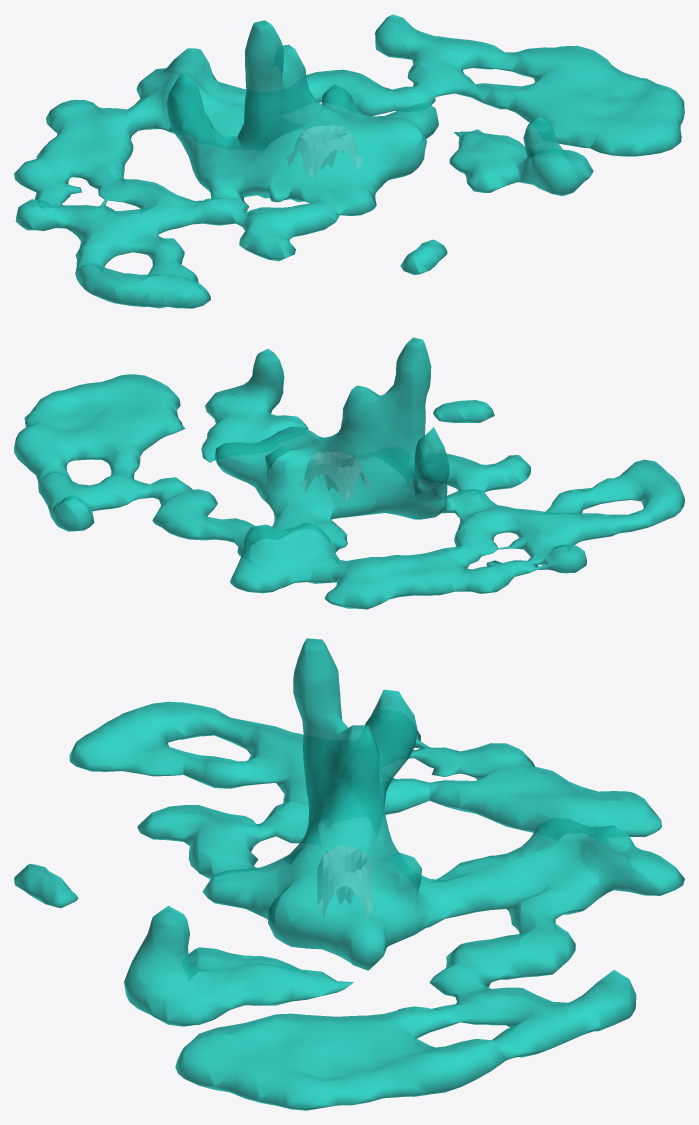
3 renders of one model, top to bottom at view 1: azimuth 30°, elevation 25°; view 2: azimuth 150°, elevation 25°; view 3: azimuth 270°, elevation 25°, orthographic. The views are drawn at different scales.
Visible parts, largest first — view 1: Liquid_Domain, グリッド; view 2: Liquid_Domain, グリッド; view 3: Liquid_Domain, グリッド.
Boxes of the visible parts, <box> form: Liquid_Domain: <box>14,14,684,308</box>; グリッド: <box>287,125,362,179</box>; Liquid_Domain: <box>14,337,684,609</box>; グリッド: <box>300,451,369,501</box>; Liquid_Domain: <box>14,638,684,1110</box>; グリッド: <box>317,846,372,917</box>.
Size of the model in its own units: 4.99 by 1.35 by 3.61.
